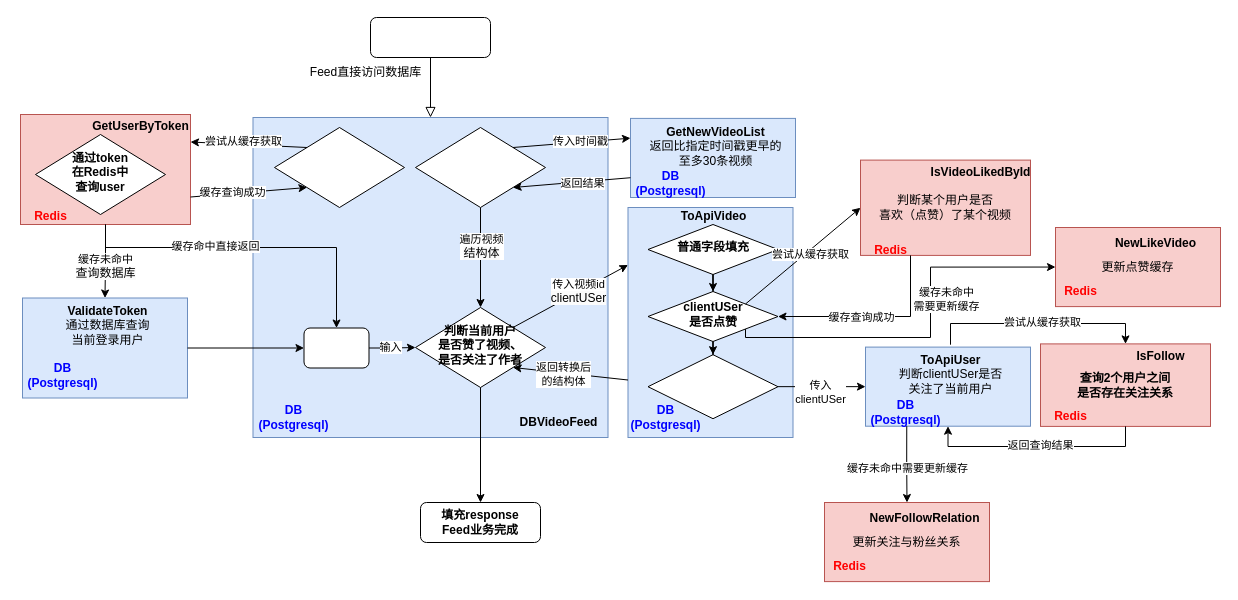
Image size: 1238x600. Some labels were removed from this diagram. The centre of each missing label's shape, as x and y in pixels:
填充User， 需要知道是否被clientUSer关注: the point at 712,386
当前用户 clientUSer: the point at 336,347
获取当前用户: the point at 339,167
获取视频列表: the point at 480,167
路由函数 Feed: the point at 430,37
